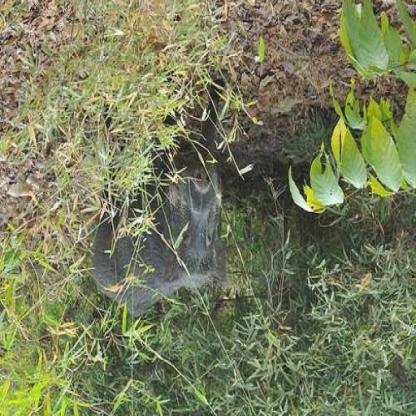boar: (79, 84, 261, 332)
